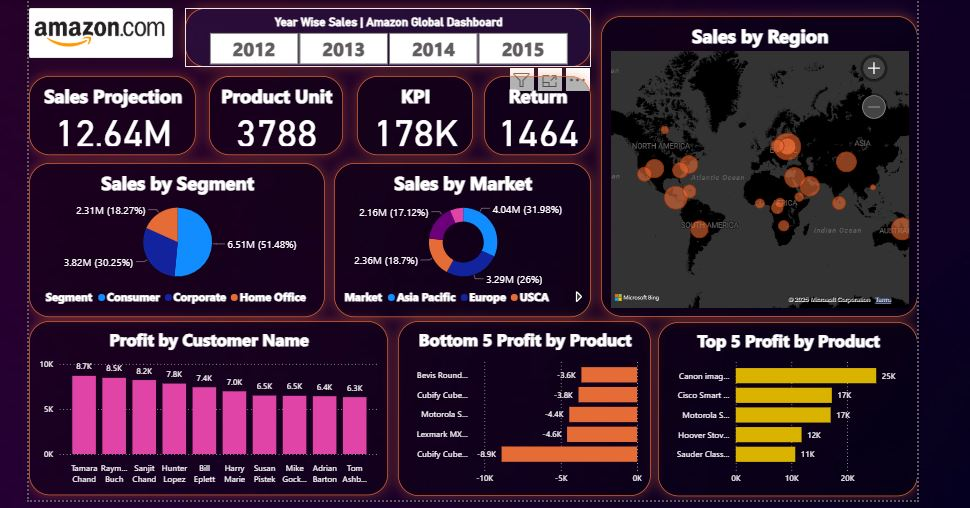

What the dashboard file says about the page in this screenshot:
{"tool":"powerbi","page":{"name":"Report 1","canvas":[1280,720],"ordinal":0},"visuals":[{"type":"slicer","title":"Year Wise Sales | Amazon Global Dashboard","fields":{"Values":["Orders.Order Date.Variation.Date Hierarchy.Year"]},"box":[224.6,11.5,584.6,85],"z":0},{"type":"card","title":"Sales Projection ","fields":{"Values":["Orders.Sales"]},"box":[0,109.4,240.5,113.8],"z":1000},{"type":"card","title":"Product Unit","fields":{"Values":["Orders.Product Name"]},"box":[259.2,109.4,193,113.8],"z":2000},{"type":"image","box":[0,11.5,207.4,72],"z":3000},{"type":"card","title":"KPI ","fields":{"Values":["Orders.Quantity"]},"box":[472.3,109.4,167,113.8],"z":4000},{"type":"card","title":"Return","fields":{"Values":["Orders.Ship Date"]},"box":[655.2,109.4,154.1,113.8],"z":5000},{"type":"pieChart","title":"Sales by Segment ","fields":{"Category":["Orders.Segment"],"Y":["Orders.Sales"]},"box":[0,234.7,426.2,221.8],"z":6000},{"type":"donutChart","title":"Sales by Market","fields":{"Y":["Orders.Sales"],"Category":["Orders.Market"]},"box":[439.2,234.7,370.1,221.8],"z":7000},{"type":"columnChart","title":"Profit by Customer Name","fields":{"Y":["Orders.Profit"],"Category":["Orders.Customer Name"]},"box":[0,462.2,517,250.6],"z":8000},{"type":"clusteredBarChart","title":"Bottom 5 Profit by Product","fields":{"Y":["Orders.Profit"],"Category":["Orders.Product Name"]},"box":[531.4,462.2,364.3,252],"z":9000},{"type":"clusteredBarChart","title":"Top 5 Profit by Product","fields":{"Y":["Orders.Profit"],"Category":["Orders.Product Name"]},"box":[905.8,463.7,374.4,250.6],"z":10000},{"type":"map","title":"Sales by Region","fields":{"Category":["Orders.Region"],"Size":["Orders.Sales"]},"box":[823.7,23,456.5,433.4],"z":11000}]}

Visuals, with their boxes on the page's 1280x720 design canvas (x1, y1, x2, y2). These are canvas units, not pixel positions in the 970x508 screenshot, which may show the page scaled, cropped or inside an application window:
"Year Wise Sales | Amazon Global Dashboard" slicer: x1=225, y1=12, x2=809, y2=96
"Sales Projection " card: x1=0, y1=109, x2=240, y2=223
"Product Unit" card: x1=259, y1=109, x2=452, y2=223
image: x1=0, y1=12, x2=207, y2=84
"KPI " card: x1=472, y1=109, x2=639, y2=223
"Return" card: x1=655, y1=109, x2=809, y2=223
"Sales by Segment " pieChart: x1=0, y1=235, x2=426, y2=456
"Sales by Market" donutChart: x1=439, y1=235, x2=809, y2=456
"Profit by Customer Name" columnChart: x1=0, y1=462, x2=517, y2=713
"Bottom 5 Profit by Product" clusteredBarChart: x1=531, y1=462, x2=896, y2=714
"Top 5 Profit by Product" clusteredBarChart: x1=906, y1=464, x2=1280, y2=714
"Sales by Region" map: x1=824, y1=23, x2=1280, y2=456
